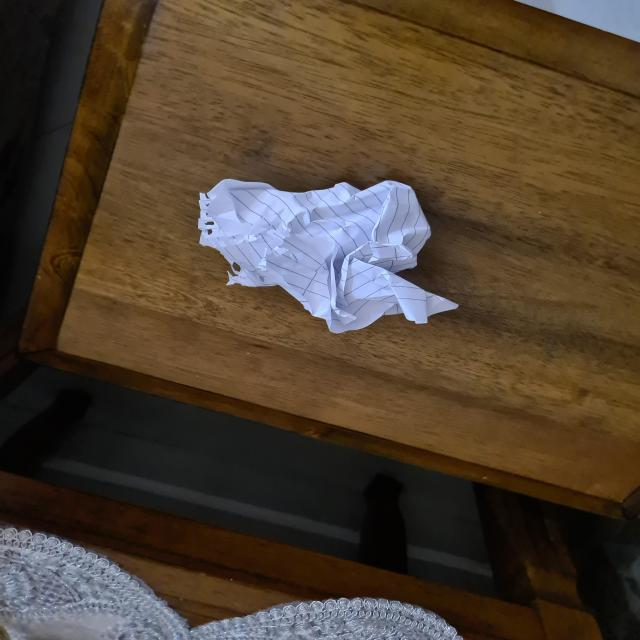kertas: (192, 177, 449, 333)
